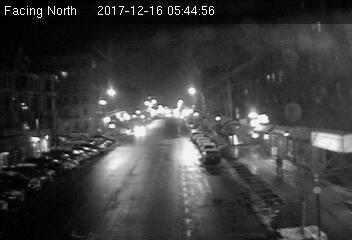car: (201, 149, 221, 163)
pedestrian: (274, 152, 285, 180)
